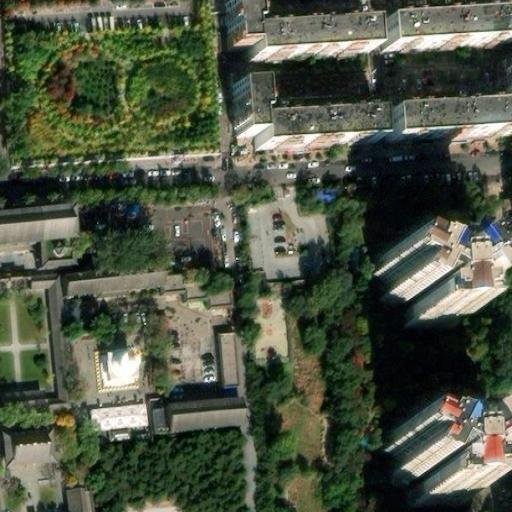building: (383, 412, 498, 497), (372, 251, 486, 336), (241, 18, 357, 56), (381, 102, 500, 138), (374, 13, 492, 42), (249, 115, 365, 142), (160, 404, 242, 442), (46, 287, 71, 406), (0, 221, 70, 263), (61, 280, 157, 305), (85, 398, 147, 432), (95, 345, 140, 388), (0, 431, 49, 470), (221, 83, 250, 132), (214, 334, 235, 393), (61, 483, 92, 512), (496, 66, 512, 118), (0, 392, 45, 409), (202, 284, 232, 307)
